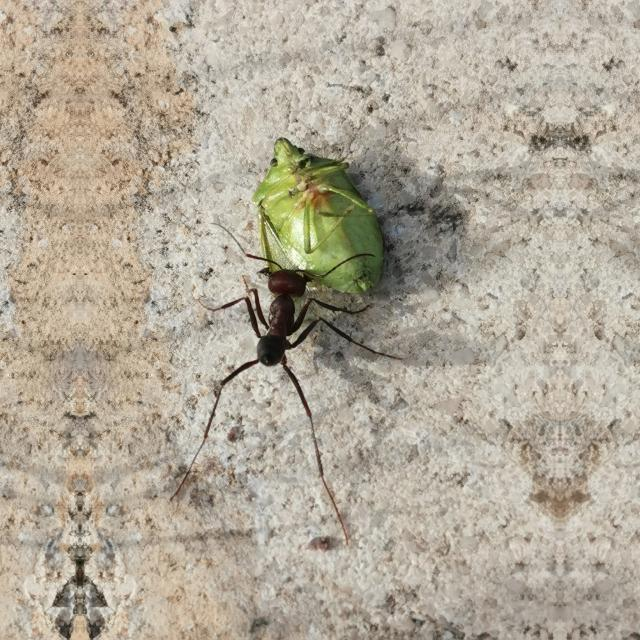Cataglyphis: (225, 231, 331, 403)
